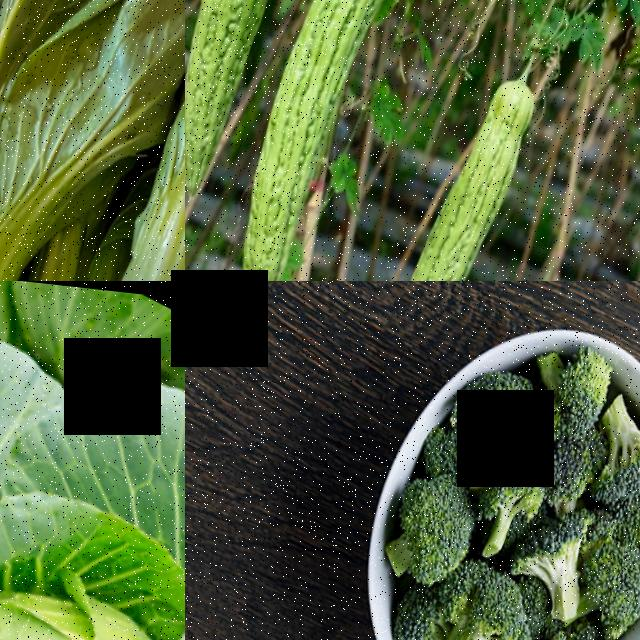bitter gourd: (185, 0, 424, 281), (350, 50, 549, 281), (185, 0, 338, 204)
bok choy: (0, 0, 175, 281), (29, 0, 185, 281)
broccoli: (396, 537, 549, 640), (429, 343, 533, 491), (503, 490, 612, 605), (520, 325, 626, 440), (462, 445, 542, 555), (585, 396, 640, 491)
cabbage: (0, 281, 185, 640)
